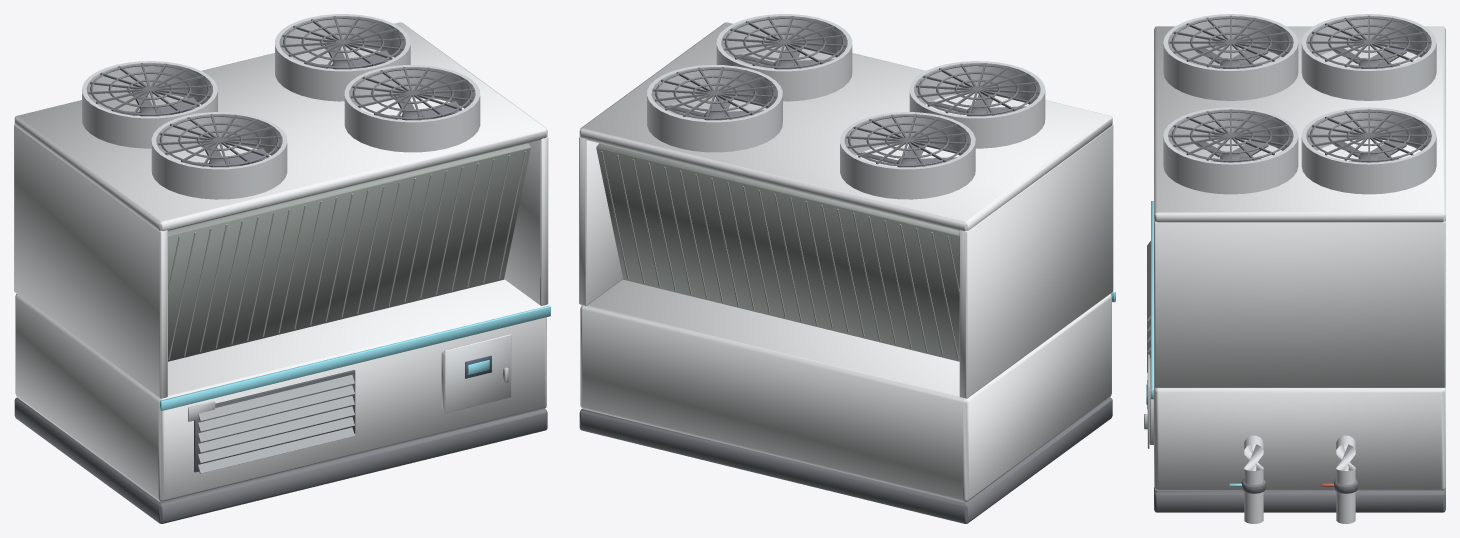
The model's file is chiller.glb.
3 renders of one model, left to right at view 1: azimuth 30°, elevation 25°; view 2: azimuth 150°, elevation 25°; view 3: azimuth 270°, elevation 25°, orthographic.
Visible parts, largest first — view 1: Body, Fan, Fan.002, Fan.003, Fan.001; view 2: Body, Fan, Fan.002, Fan.001, Fan.003; view 3: Body, Fan.003, Fan.002, Fan, Fan.001.
Part boxes in pixels (x1,y1,x2,y2): Body: (14,14,550,523); Fan: (183,142,269,167); Fan.002: (376,95,462,120); Fan.003: (306,44,392,69); Fan.001: (111,91,199,116); Body: (579,14,1115,523); Fan: (926,93,1026,116); Fan.002: (733,46,833,69); Fan.001: (857,144,957,167); Fan.003: (664,97,764,120); Body: (1144,14,1445,523); Fan.003: (1332,137,1406,162); Fan.002: (1194,137,1268,162); Fan: (1194,44,1268,68); Fan.001: (1332,44,1406,68).
Size of the model in its own units: 3.19 by 2.41 by 1.96.
